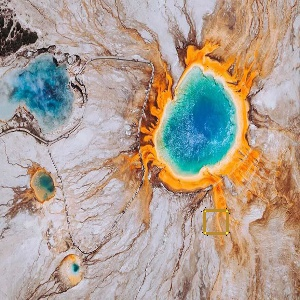square: (201, 207, 231, 237)
